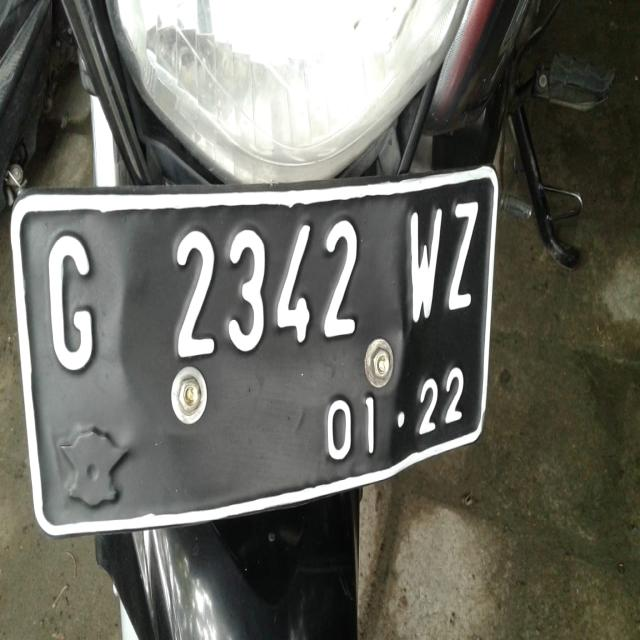plate: (11, 163, 498, 532)
